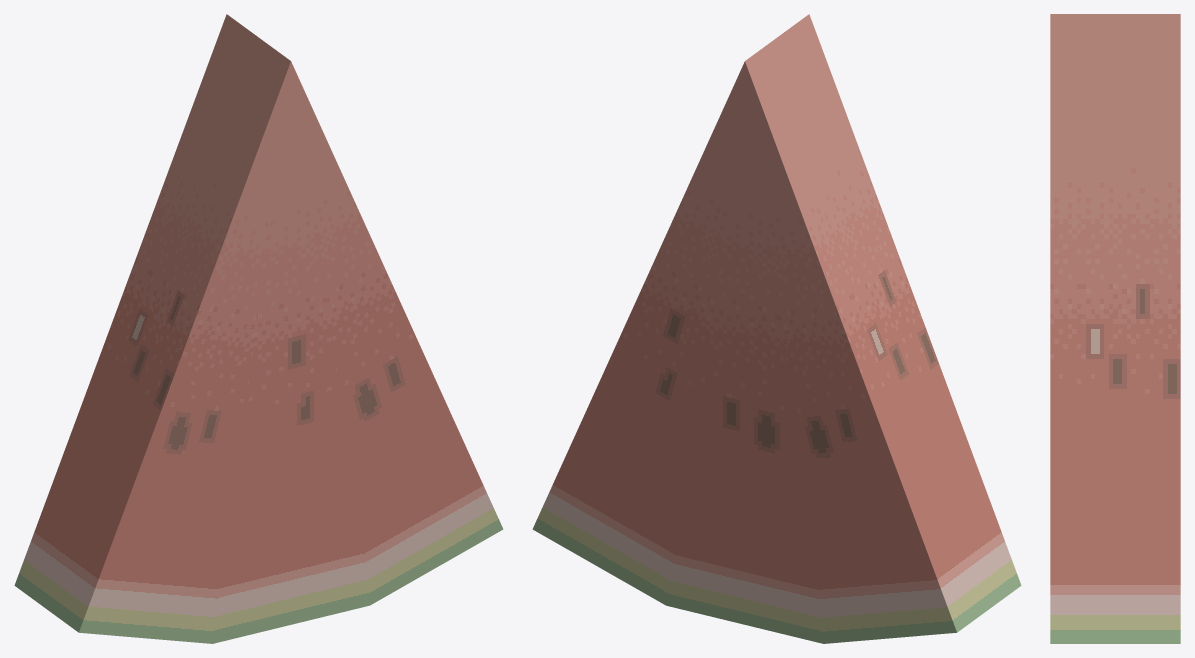
The model's file is 02b3_Watermelon_Slice.glb.
The picture shows the model from 3 angles, left to right: view 1: azimuth 30°, elevation 25°; view 2: azimuth 150°, elevation 25°; view 3: azimuth 270°, elevation 25°; orthographic projection.
Parts seen in each view (by area): view 1: part_0; view 2: part_0; view 3: part_0.
Part boxes in pixels (x1,y1,x2,y2): part_0: (14,14,503,643); part_0: (532,14,1021,643); part_0: (1050,14,1180,643).
Bounding box in the file's own units: 0.1051 × 0.1333 × 0.0276.
1 material, 1 textured.
